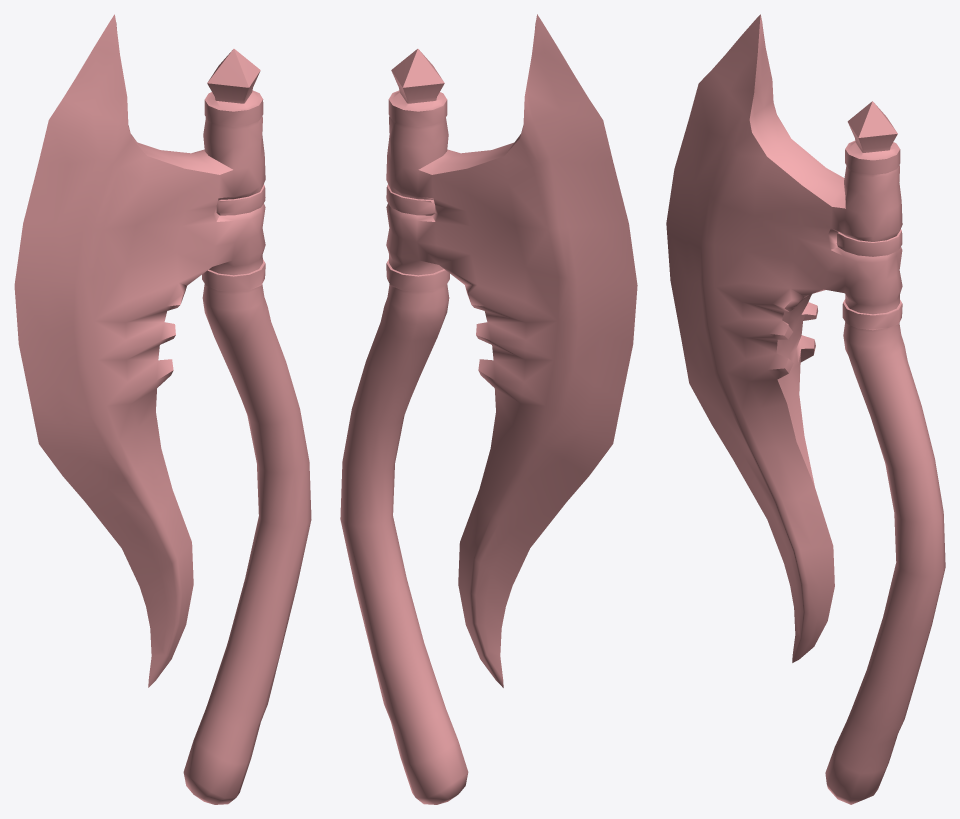
3 renders of one model, left to right at view 1: azimuth 30°, elevation 25°; view 2: azimuth 150°, elevation 25°; view 3: azimuth 330°, elevation 25°, orthographic. The views are drawn at different scales.
Parts seen in each view (by area): view 1: Object_0; view 2: Object_0; view 3: Object_0.
Part boxes in pixels (x1,y1,x2,y2): Object_0: [14, 14, 311, 804]; Object_0: [340, 14, 637, 804]; Object_0: [666, 14, 945, 804].
Bounding box in the file's own units: 0.379 × 1 × 0.0905.
